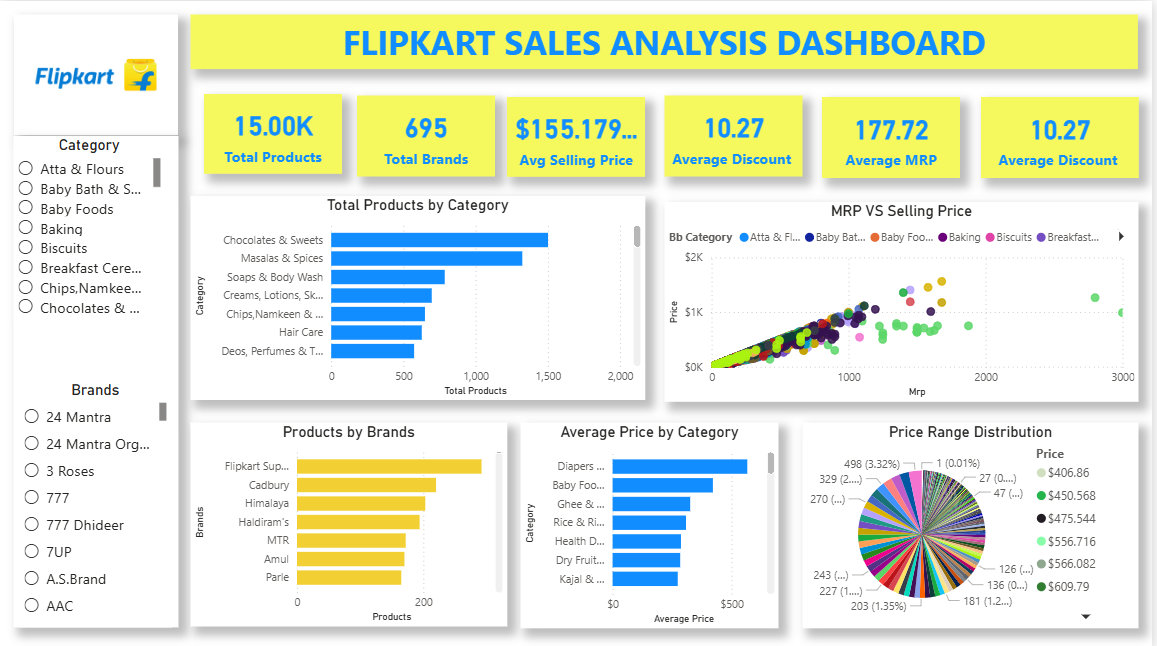

What the dashboard file says about the page in this screenshot:
{"tool":"powerbi","page":{"name":"Page 1","canvas":[1280,720],"ordinal":0},"visuals":[{"type":"image","box":[15.1,15.1,183.3,134.2],"z":0},{"type":"shape","box":[15.1,149.3,183.3,546.1],"z":1000},{"type":"textbox","box":[211.7,15.1,1052.6,60.5],"z":2000},{"type":"card","fields":{"Values":["Count(marketing_sample_for_flipkart_com-ecommerce__20191101_20191130__15k_data.Uniq Id)"]},"box":[226.8,103.9,153.1,88.8],"z":3000},{"type":"card","fields":{"Values":["Count(marketing_sample_for_flipkart_com-ecommerce__20191101_20191130__15k_data.Brand)"]},"box":[396.7,105,153.3,90],"z":4000},{"type":"card","fields":{"Values":["Avg(marketing_sample_for_flipkart_com-ecommerce__20191101_20191130__15k_data.Price)"]},"box":[563.3,106.7,153.3,88.3],"z":5000},{"type":"card","fields":{"Values":["Avg(marketing_sample_for_flipkart_com-ecommerce__20191101_20191130__15k_data.Mrp)"]},"box":[913.3,106.7,153.3,90],"z":6000},{"type":"listSlicer","fields":{"Values":["marketing_sample_for_flipkart_com-ecommerce__20191101_20191130__15k_data.Bb Category"]},"box":[15.1,149.3,168.2,209.8],"z":7000},{"type":"listSlicer","fields":{"Values":["marketing_sample_for_flipkart_com-ecommerce__20191101_20191130__15k_data.Brand"]},"box":[21.7,421.7,168.3,273.3],"z":8000},{"type":"clusteredBarChart","title":"Total Products by Category","fields":{"Category":["marketing_sample_for_flipkart_com-ecommerce__20191101_20191130__15k_data.Bb Category"],"Y":["CountNonNull(marketing_sample_for_flipkart_com-ecommerce__20191101_20191130__15k_data.Product Title)"]},"box":[211.7,216.7,505,226.7],"z":8001},{"type":"barChart","fields":{"Category":["marketing_sample_for_flipkart_com-ecommerce__20191101_20191130__15k_data.Brand"],"Y":["CountNonNull(marketing_sample_for_flipkart_com-ecommerce__20191101_20191130__15k_data.Product Title)"]},"box":[211.7,468.3,351.7,226.7],"z":8002},{"type":"scatterChart","title":"MRP VS Selling Price","fields":{"X":["marketing_sample_for_flipkart_com-ecommerce__20191101_20191130__15k_data.Mrp"],"Y":["marketing_sample_for_flipkart_com-ecommerce__20191101_20191130__15k_data.Price"],"Series":["marketing_sample_for_flipkart_com-ecommerce__20191101_20191130__15k_data.Bb Category"]},"box":[738.3,223.3,526.7,221.7],"z":8003},{"type":"card","fields":{"Values":["Avg(marketing_sample_for_flipkart_com-ecommerce__20191101_20191130__15k_data.Discount %)"]},"box":[1090,106.7,175,90],"z":8004},{"type":"card","fields":{"Values":["Avg(marketing_sample_for_flipkart_com-ecommerce__20191101_20191130__15k_data.Discount %)"]},"box":[738.3,105,153.3,90],"z":8005},{"type":"pieChart","title":"Price Range Distribution","fields":{"Category":["marketing_sample_for_flipkart_com-ecommerce__20191101_20191130__15k_data.Price (bins)"],"Y":["CountNonNull(marketing_sample_for_flipkart_com-ecommerce__20191101_20191130__15k_data.Product Title)"]},"box":[891.7,468.3,373.3,228.3],"z":8006},{"type":"barChart","fields":{"Category":["marketing_sample_for_flipkart_com-ecommerce__20191101_20191130__15k_data.Bb Category"],"Y":["Avg(marketing_sample_for_flipkart_com-ecommerce__20191101_20191130__15k_data.Price)"]},"box":[578.3,468.3,286.7,228.3],"z":8007}]}

Visuals, with their boxes in screenshot pixels (x1, y1, x2, y2), scaled from the page's 1280x720 canvas onto the 1157x646 screenshot:
image: x1=14, y1=14, x2=179, y2=134
shape: x1=14, y1=134, x2=179, y2=624
textbox: x1=191, y1=14, x2=1143, y2=68
card - Count(marketing_sample_for_flipkart_com-ecommerce__20191101_20191130__15k_data.Uniq Id): x1=205, y1=93, x2=343, y2=173
card - Count(marketing_sample_for_flipkart_com-ecommerce__20191101_20191130__15k_data.Brand): x1=359, y1=94, x2=497, y2=175
card - Avg(marketing_sample_for_flipkart_com-ecommerce__20191101_20191130__15k_data.Price): x1=509, y1=96, x2=648, y2=175
card - Avg(marketing_sample_for_flipkart_com-ecommerce__20191101_20191130__15k_data.Mrp): x1=826, y1=96, x2=964, y2=176
listSlicer - marketing_sample_for_flipkart_com-ecommerce__20191101_20191130__15k_data.Bb Category: x1=14, y1=134, x2=166, y2=322
listSlicer - marketing_sample_for_flipkart_com-ecommerce__20191101_20191130__15k_data.Brand: x1=20, y1=378, x2=172, y2=624
"Total Products by Category" clusteredBarChart: x1=191, y1=194, x2=648, y2=398
barChart - marketing_sample_for_flipkart_com-ecommerce__20191101_20191130__15k_data.Brand x CountNonNull(marketing_sample_for_flipkart_com-ecommerce__20191101_20191130__15k_data.Product Title): x1=191, y1=420, x2=509, y2=624
"MRP VS Selling Price" scatterChart: x1=667, y1=200, x2=1143, y2=399
card - Avg(marketing_sample_for_flipkart_com-ecommerce__20191101_20191130__15k_data.Discount %): x1=985, y1=96, x2=1143, y2=176
card - Avg(marketing_sample_for_flipkart_com-ecommerce__20191101_20191130__15k_data.Discount %): x1=667, y1=94, x2=806, y2=175
"Price Range Distribution" pieChart: x1=806, y1=420, x2=1143, y2=625
barChart - marketing_sample_for_flipkart_com-ecommerce__20191101_20191130__15k_data.Bb Category x Avg(marketing_sample_for_flipkart_com-ecommerce__20191101_20191130__15k_data.Price): x1=523, y1=420, x2=782, y2=625
